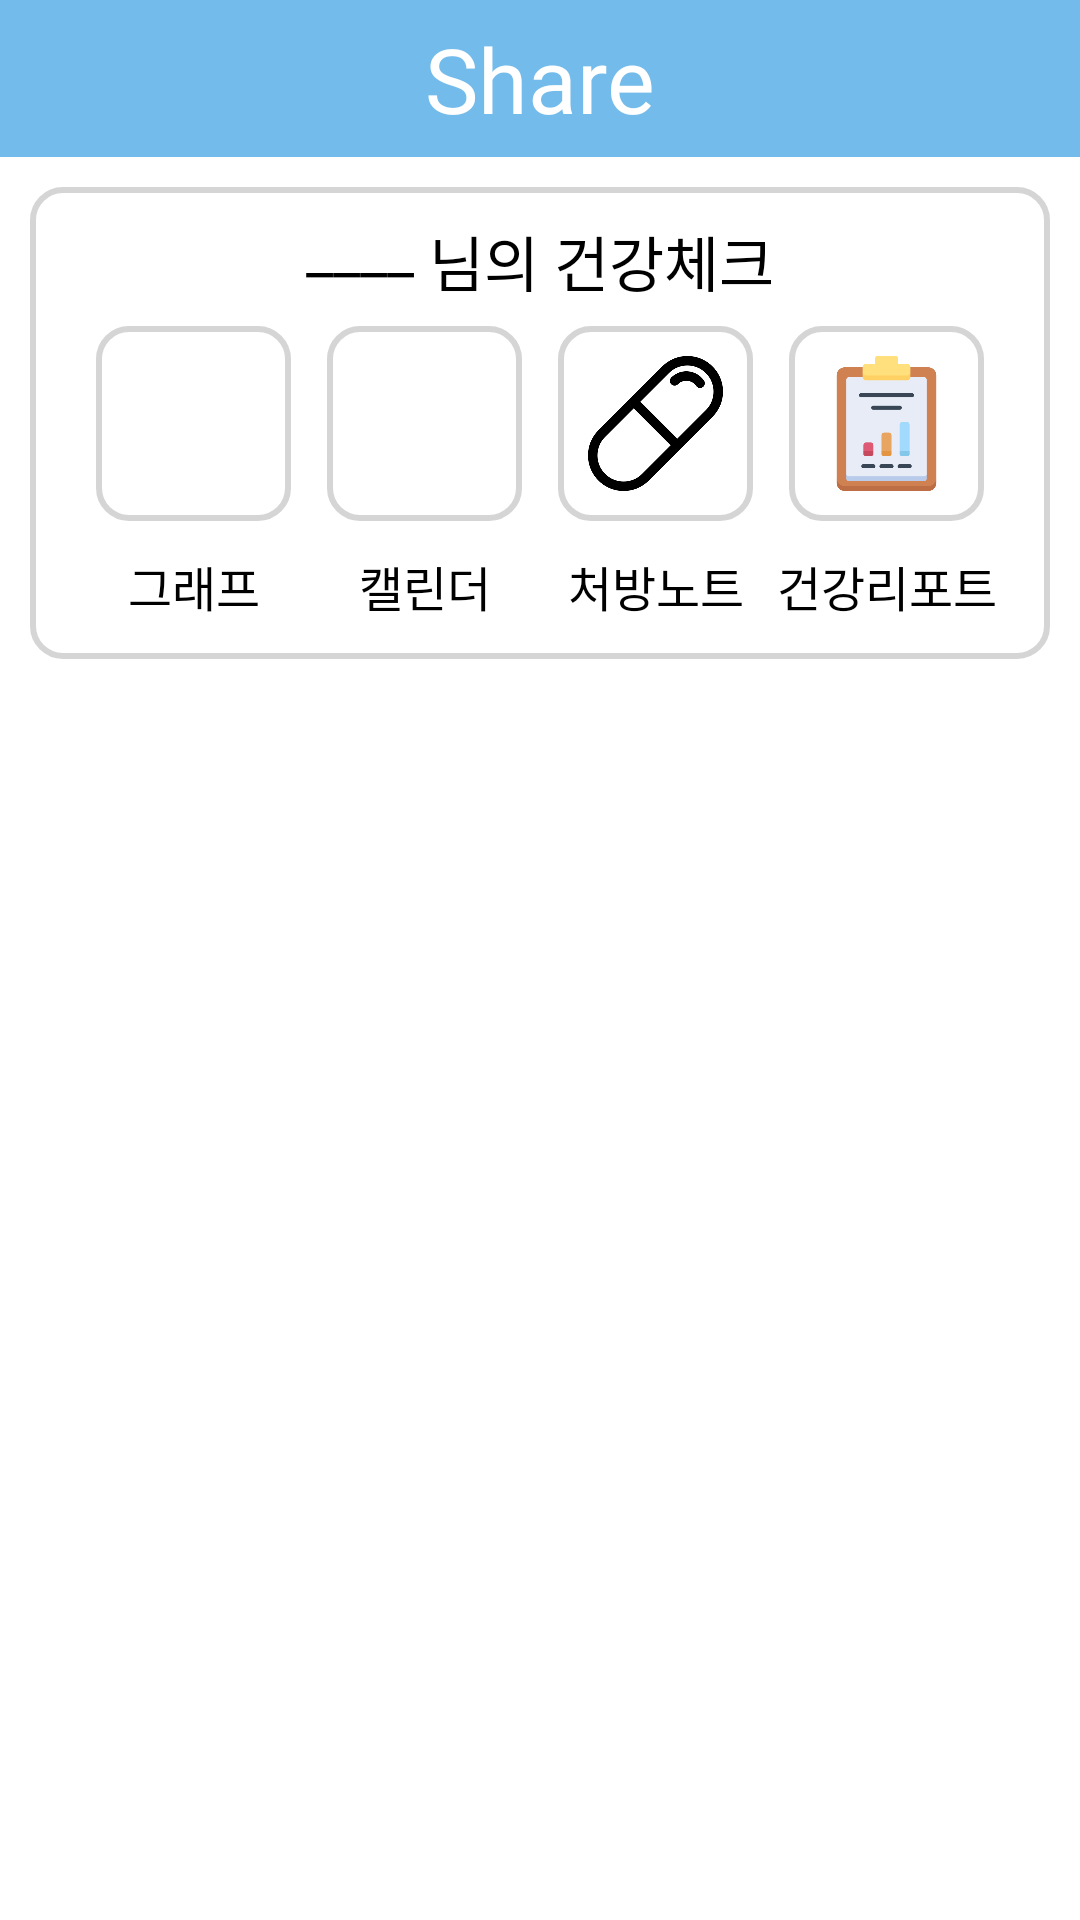

Point at icon controls on the screen. Image size 1080px x 1920px, points as point (x, y).
share prescription: point (655, 423)
share report: point (886, 423)
